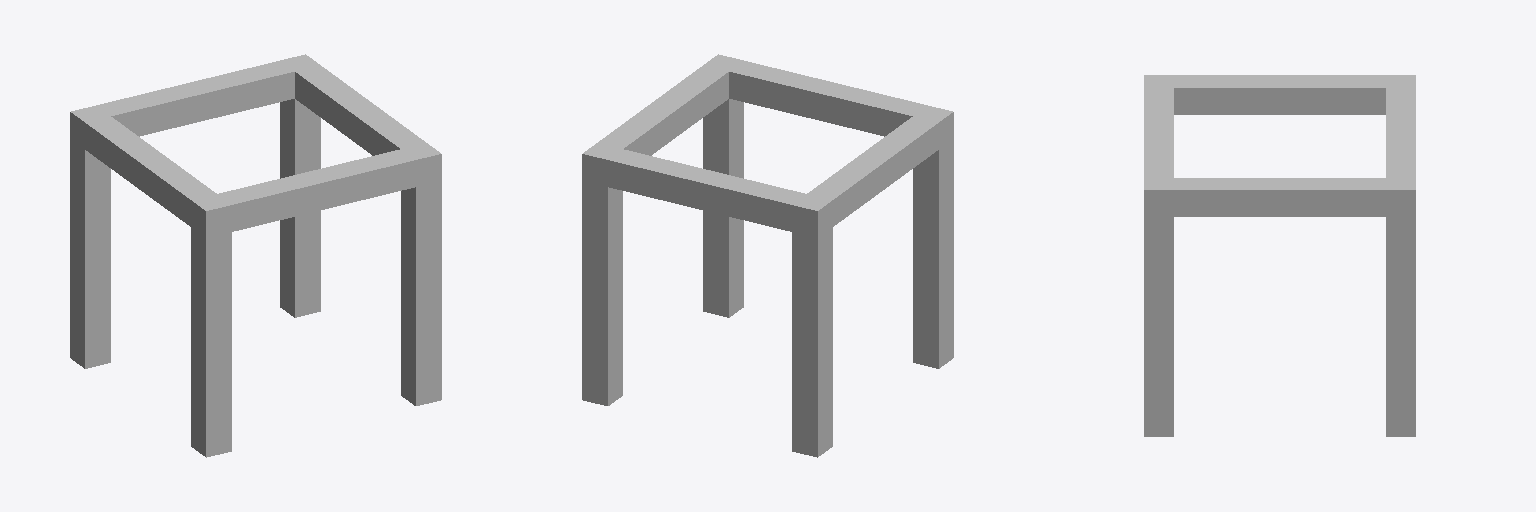
File: spaceInterior_065.obj
3 renders of one model, left to right at view 1: azimuth 30°, elevation 25°; view 2: azimuth 150°, elevation 25°; view 3: azimuth 270°, elevation 25°, orthographic.
Visible parts, largest first — view 1: Mesh1 Group1 Model; view 2: Mesh1 Group1 Model; view 3: Mesh1 Group1 Model.
Boxes of the visible parts, <box> form: Mesh1 Group1 Model: <box>70,54,441,457</box>; Mesh1 Group1 Model: <box>582,54,953,457</box>; Mesh1 Group1 Model: <box>1144,75,1415,436</box>.
Bounding box in the file's own units: 1 × 1 × 1.